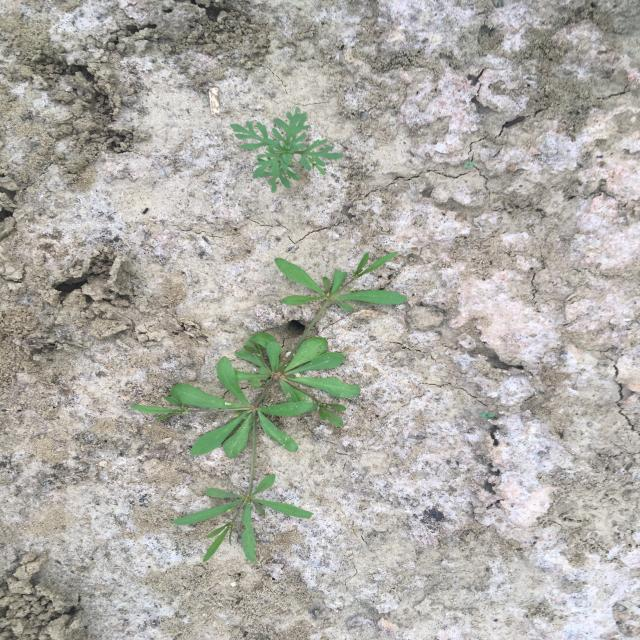Carpetweed: (128, 250, 410, 566)
Ragweed: (228, 106, 347, 196)
